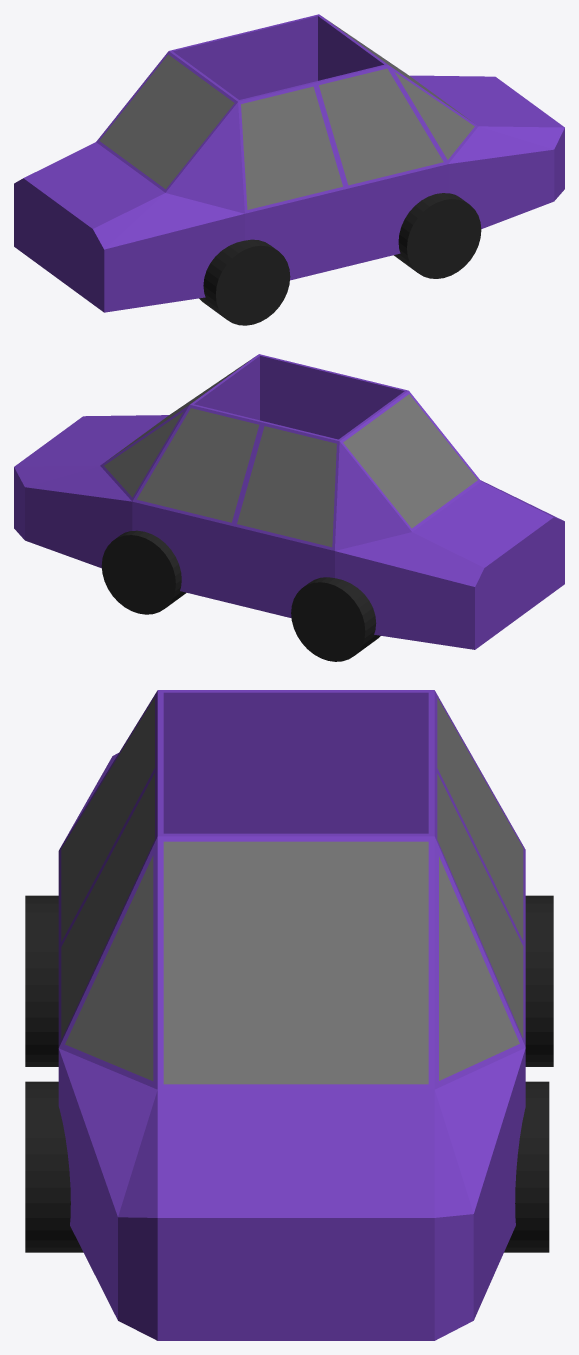
File: car_with_hole_in_roof.fbx
3 renders of one model, top to bottom at view 1: azimuth 30°, elevation 25°; view 2: azimuth 150°, elevation 25°; view 3: azimuth 270°, elevation 25°, orthographic. The views are drawn at different scales.
Visible parts, largest first — view 1: Cube; view 2: Cube; view 3: Cube.
Boxes of the visible parts, x1,y1,x2,y2 form: Cube: (14,14,564,325); Cube: (14,354,564,661); Cube: (25,690,553,1340).
Size of the model in its own units: 909 by 357 by 442.
